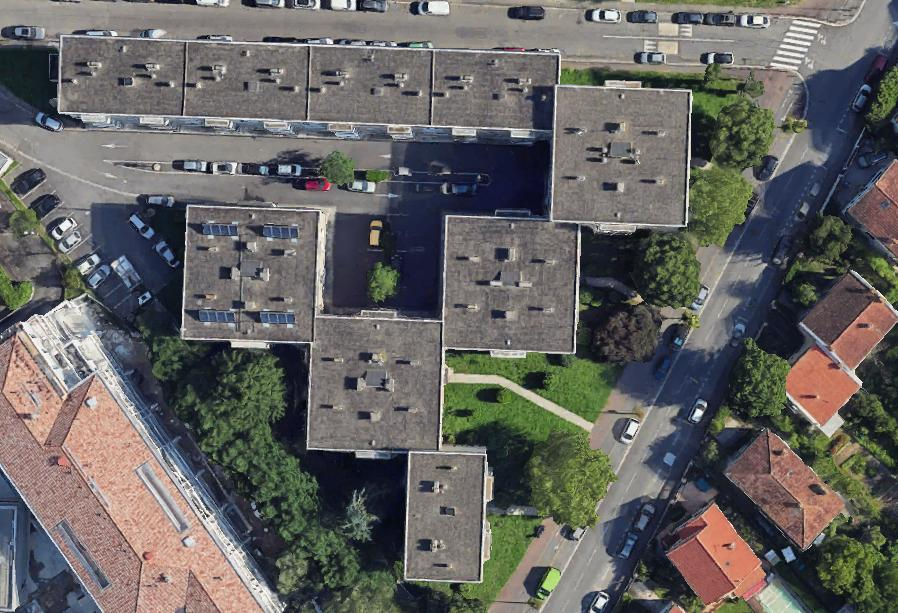immeuble: (0, 291, 285, 613), (56, 34, 560, 145), (550, 85, 690, 232), (179, 206, 326, 346), (442, 218, 578, 349), (309, 317, 440, 452), (404, 448, 492, 581)
maison: (759, 261, 898, 437), (721, 425, 847, 550), (657, 501, 770, 613), (842, 159, 897, 261)
